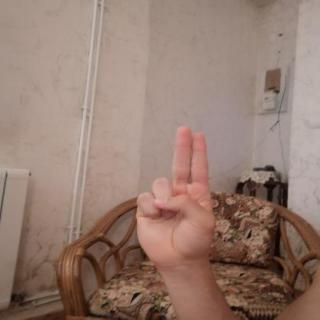TA: (120, 116, 222, 272)
